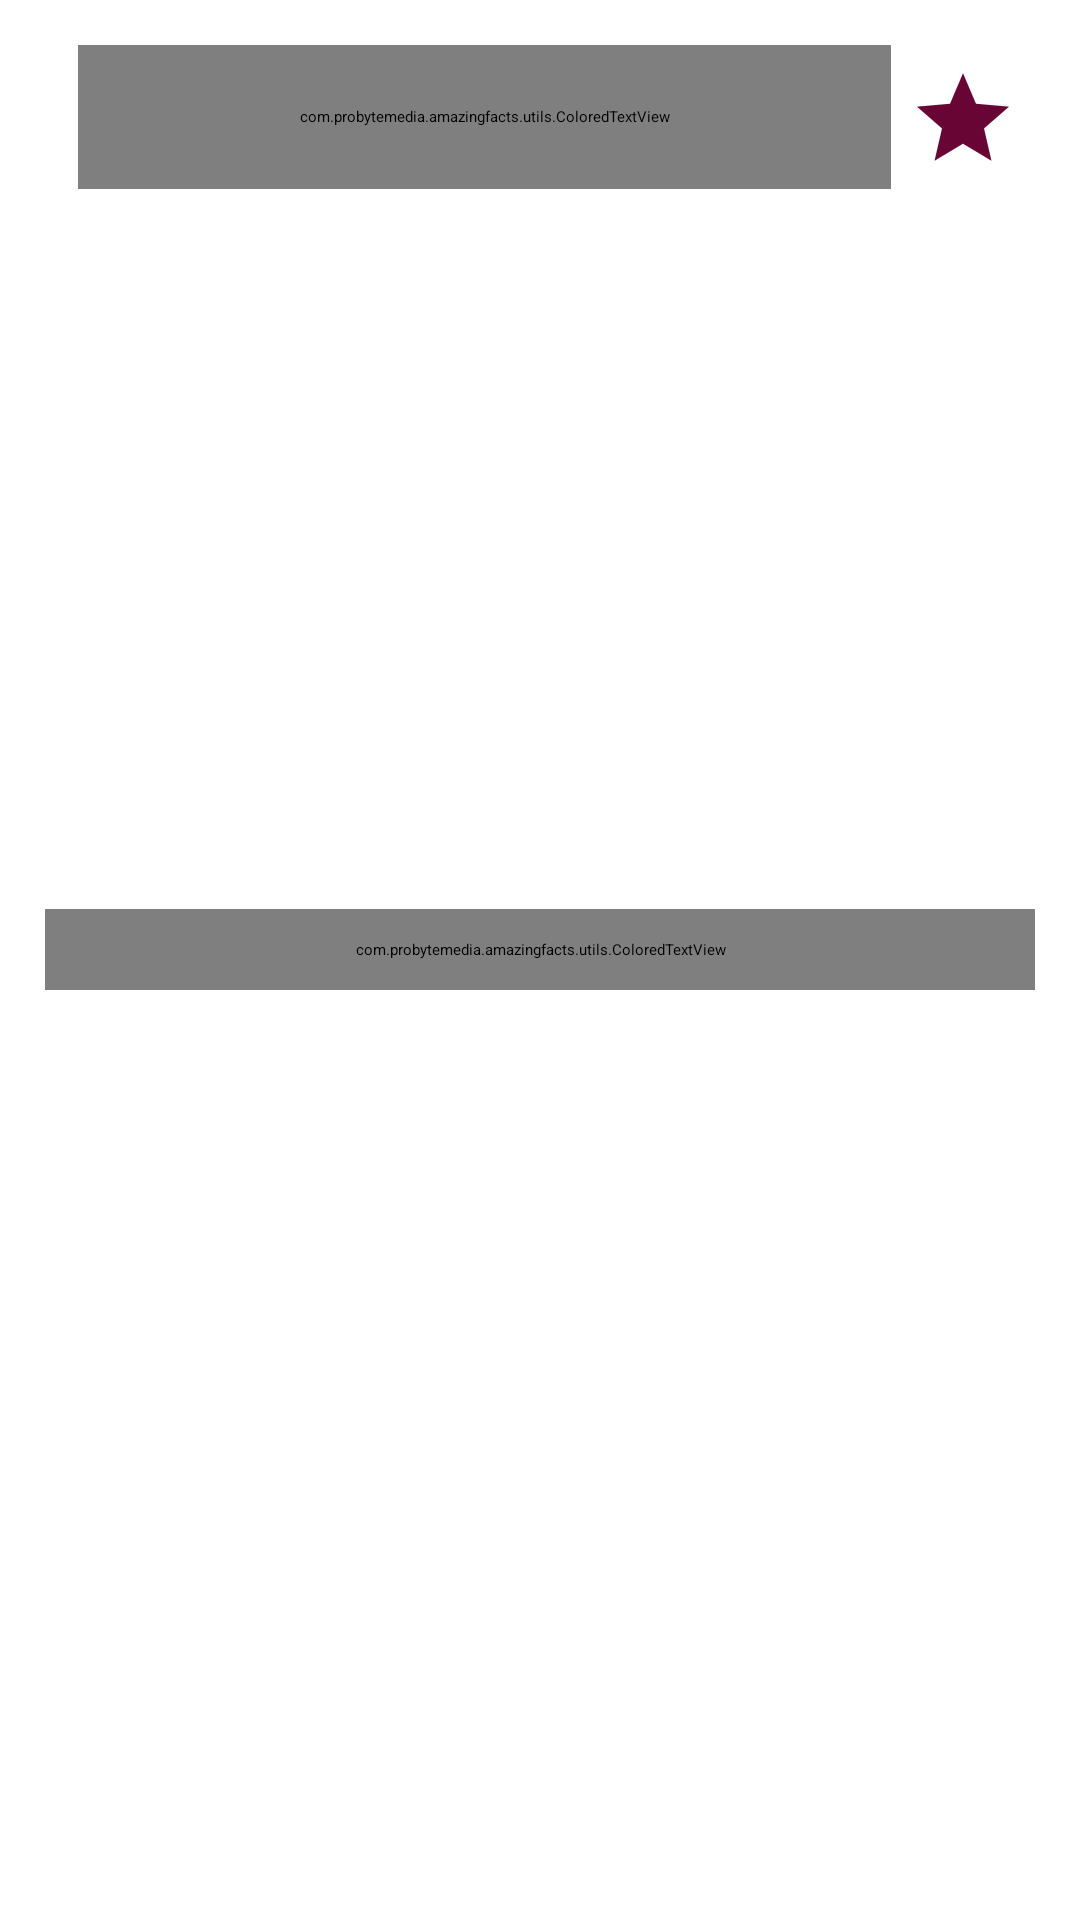

Locate icon controls on the screen. Image size 1080w x 1920h, boxes as [left=x1, top=y1, right=x2, bottom=y2].
fav unfav: [left=917, top=73, right=1009, bottom=161]
